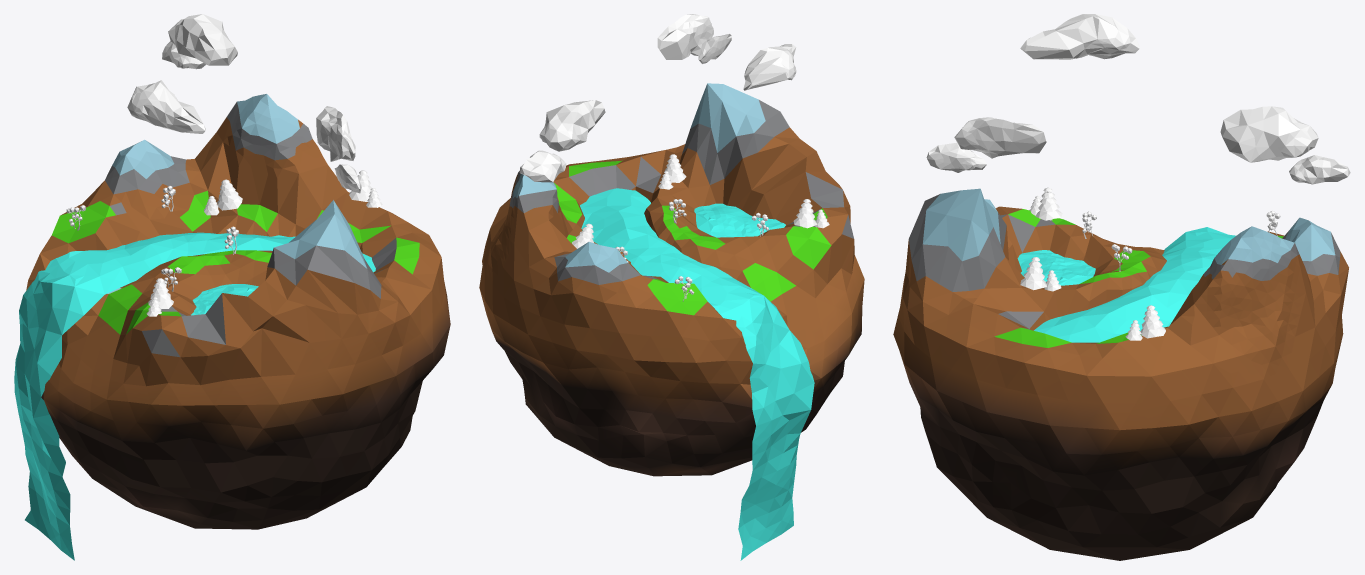
File: flying-island.glb
The picture shows the model from 3 angles, left to right: view 1: azimuth 30°, elevation 25°; view 2: azimuth 150°, elevation 25°; view 3: azimuth 270°, elevation 25°; orthographic projection. The views are drawn at different scales.
Visible parts, largest first — view 1: Icosphere, Plane, Icosphere.009, Icosphere.011, Icosphere.010, Icosphere.003; view 2: Icosphere, Plane, Icosphere.009, Icosphere.010, Icosphere.011; view 3: Icosphere, Plane, Icosphere.009, Icosphere.010, Icosphere.011, Icosphere.007, Icosphere.001.
Part boxes in pixels (left/top/right/bottom): Icosphere: left=26, top=94, right=450, bottom=529; Plane: left=14, top=232, right=375, bottom=560; Icosphere.009: left=162, top=14, right=237, bottom=69; Icosphere.011: left=127, top=80, right=205, bottom=133; Icosphere.010: left=316, top=106, right=361, bottom=193; Icosphere.003: left=217, top=179, right=242, bottom=210; Icosphere: left=479, top=83, right=864, bottom=476; Plane: left=580, top=188, right=814, bottom=560; Icosphere.009: left=519, top=100, right=605, bottom=182; Icosphere.010: left=657, top=14, right=731, bottom=63; Icosphere.011: left=743, top=44, right=796, bottom=90; Icosphere: left=893, top=188, right=1348, bottom=560; Plane: left=1017, top=227, right=1235, bottom=342; Icosphere.009: left=1220, top=106, right=1350, bottom=184; Icosphere.010: left=926, top=117, right=1046, bottom=172; Icosphere.011: left=1020, top=14, right=1139, bottom=59; Icosphere.007: left=1140, top=305, right=1165, bottom=338; Icosphere.001: left=1020, top=257, right=1046, bottom=290.
Size of the model in its own units: 1.93 by 2.46 by 2.02.
